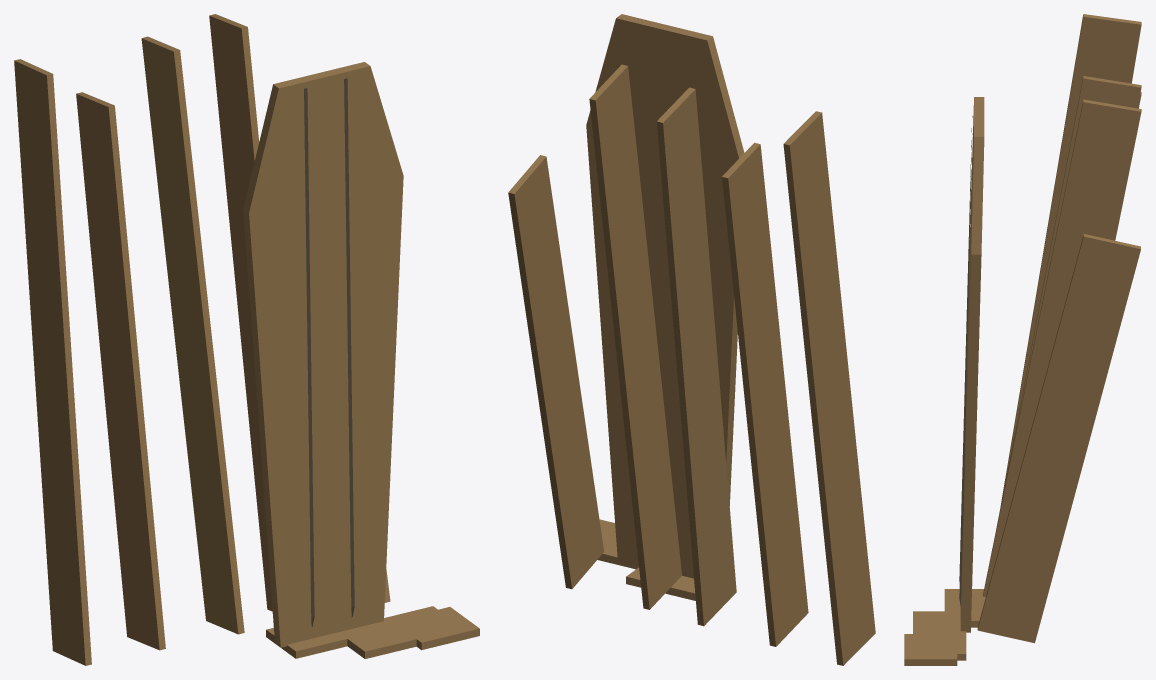
File: CoffinBoards.fbx
3 views of the same model, side by side, from view 1: azimuth 30°, elevation 25°; view 2: azimuth 150°, elevation 25°; view 3: azimuth 270°, elevation 25° (orthographic). The views are drawn at different scales.
Visible parts, largest first — view 1: CoffinBoards; view 2: CoffinBoards; view 3: CoffinBoards.
Boxes of the visible parts, x1,y1,x2,y2 form: CoffinBoards: (14, 14, 479, 665); CoffinBoards: (508, 14, 875, 665); CoffinBoards: (904, 14, 1141, 665).
Size of the model in its own units: 1.19 by 1.9 by 0.8043.
